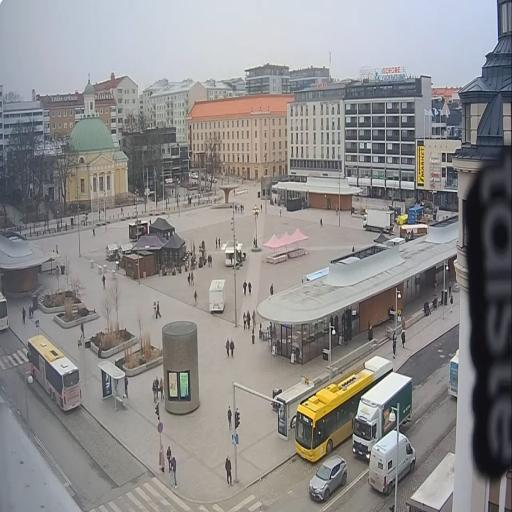bus: (289, 355, 393, 465), (24, 330, 86, 418), (448, 341, 457, 400), (0, 293, 12, 337)
car: (302, 452, 352, 504), (208, 174, 218, 184), (191, 172, 200, 180), (202, 174, 208, 182)
delivery: (351, 369, 414, 466), (367, 426, 419, 500), (360, 205, 397, 237)
